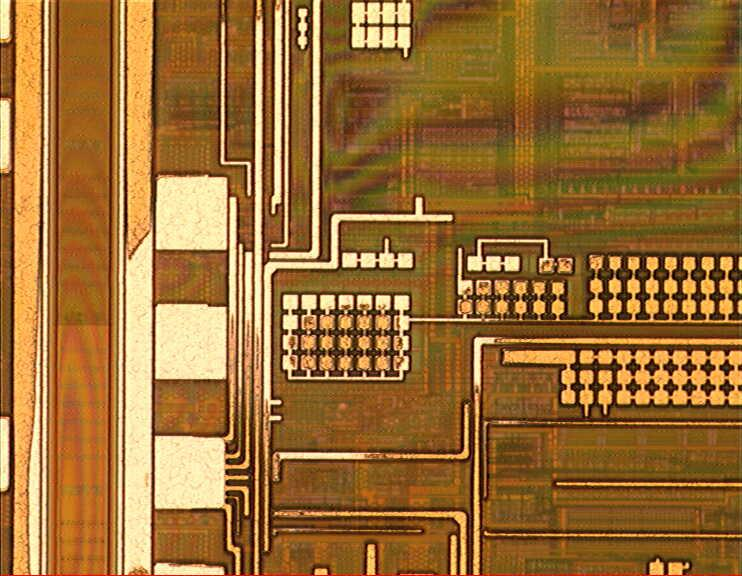COATING BAD: (30, 1, 742, 576)
